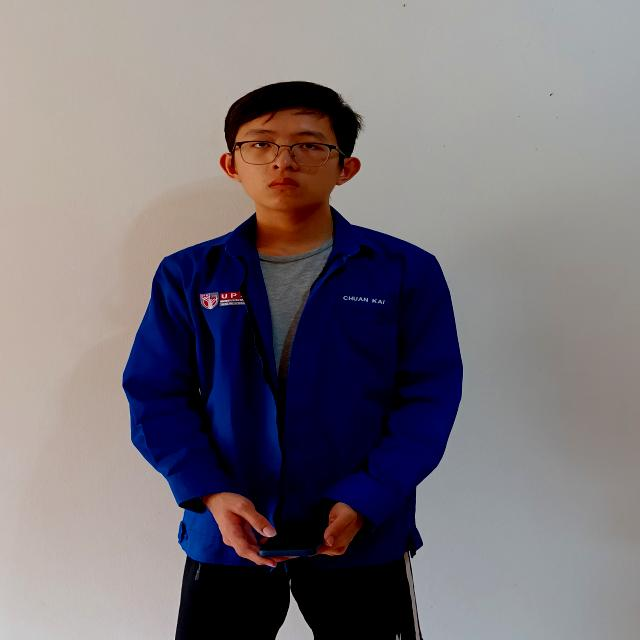person_with_labcoat: (123, 82, 462, 640)
